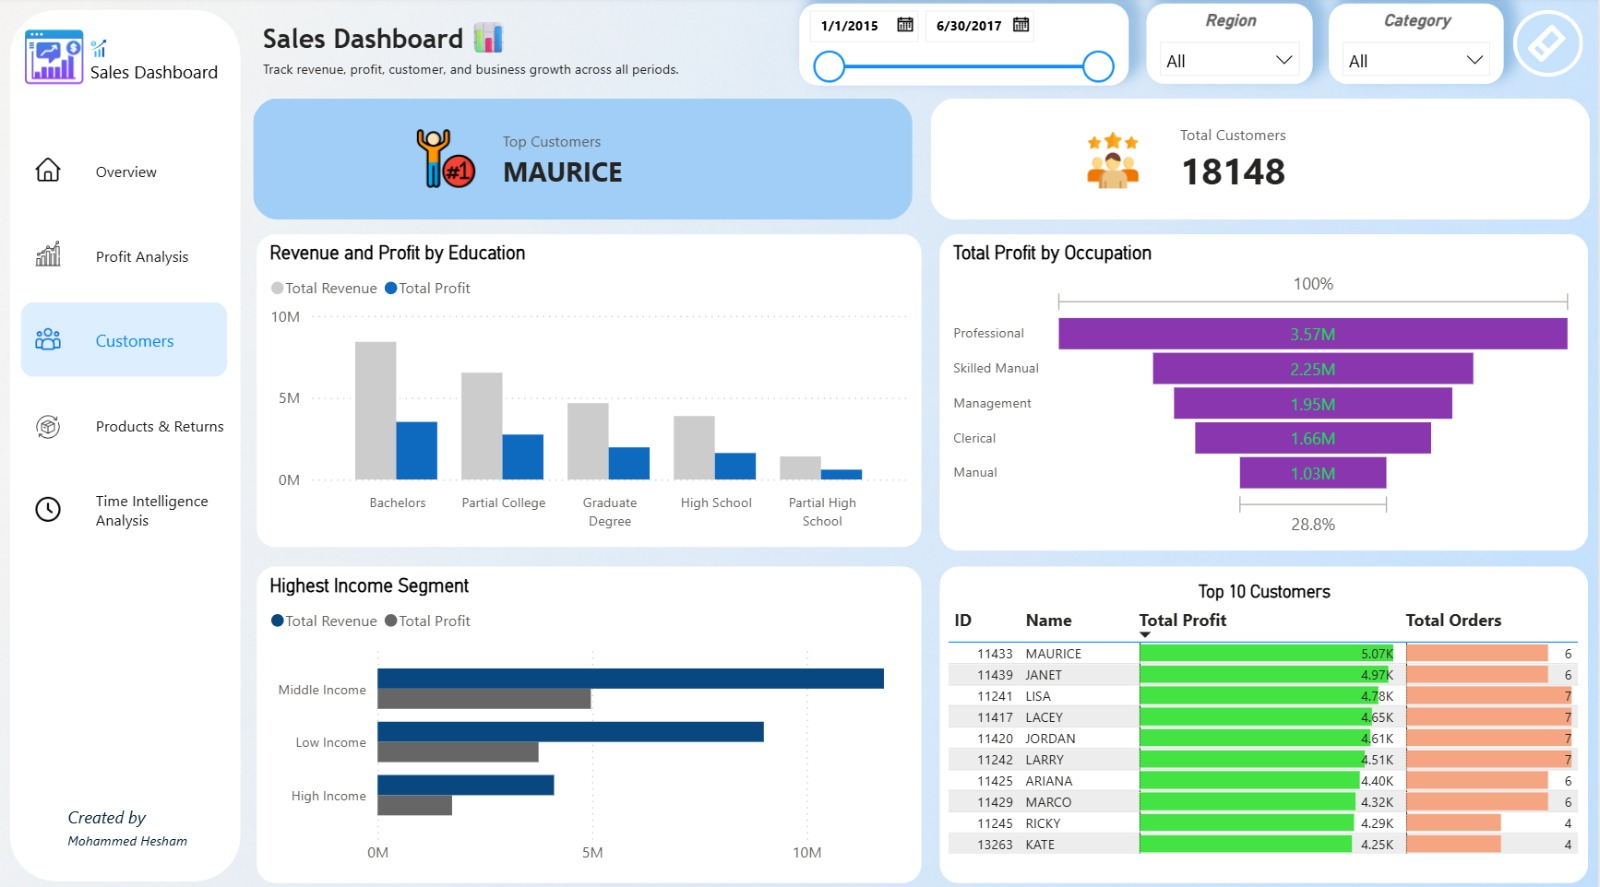

Layout of this report page (visuals, bound fields, positions):
{"tool":"powerbi","page":{"name":"Customers","canvas":[1280,720],"ordinal":2},"visuals":[{"type":"shape","box":[8,12.1,185.1,698.9],"z":0},{"type":"cardVisual","fields":{"Data":["Sales.Top Customers","A Measures.Total Customers"]},"box":[193.2,77.8,1088,107.3],"z":1000},{"type":"pageNavigator","box":[8,109.7,174.4,335.4],"z":2000},{"type":"textbox","box":[67.1,47,120.7,30.9],"z":3000},{"type":"image","box":[18.8,25.5,48.3,47],"z":4000},{"type":"image","box":[28.2,127.4,20.1,25.5],"z":5000},{"type":"image","box":[28.2,194.5,20.1,25.5],"z":6000},{"type":"image","box":[28.2,262.9,20.1,25.5],"z":7000},{"type":"image","box":[28.2,334,20.1,25],"z":8000},{"type":"image","box":[28.2,399.8,20.1,24.1],"z":9000},{"type":"textbox","box":[49.6,643.9,118.1,53.7],"z":10000},{"type":"textbox","box":[205.3,12.1,363.6,65.7],"z":11000},{"type":"image","box":[860.3,108.7,63.1,47],"z":12000},{"type":"slicer","fields":{"Values":["Calendar.Date"]},"box":[639.9,7,264.3,65.7],"z":13000},{"type":"slicer","title":"Region","fields":{"Values":["Territories.Country"]},"box":[918.7,6.5,133.3,64.7],"z":14000},{"type":"slicer","title":"Category","fields":{"Values":["Categories.CategoryName"]},"box":[1064.9,6.5,139.8,64.7],"z":15000},{"type":"image","box":[71.1,34.9,14.8,14.8],"z":16000},{"type":"card","fields":{"Values":["Count(Products.ProductKey)"]},"box":[978,279,97.9,77.8],"z":17000},{"type":"image","box":[326.3,107.3,63.1,47],"z":18000},{"type":"clusteredBarChart","title":"Highest Income Segment","fields":{"Category":["Customers.IncomeGroup"],"Y":["Sales.Total Revenue","Sales.Total Profit"]},"box":[205.3,457.5,532.6,253.5],"z":19000},{"type":"clusteredColumnChart","title":"Revenue and Profit by Education ","fields":{"Category":["Customers.EducationLevel"],"Y":["A Measures.Total Revenue","A Measures.Total Profit"]},"box":[205.3,191.8,532.6,250.9],"z":20000},{"type":"funnel","fields":{"Category":["Customers.Occupation"],"Y":["Sales.Total Profit"]},"box":[752.6,191.8,519.2,253.5],"z":21000},{"type":"tableEx","title":"Top 10 Customers","fields":{"Values":["Customers.CustomerKey","Customers.FirstName","Sum(Sales.Profit)","Sales.Total Orders"]},"box":[752.6,457.5,519.2,253.5],"z":22000},{"type":"actionButton","box":[1212.3,12.1,56.3,53.6],"z":23000}]}

Visuals, with their boxes on the page's 1280x720 design canvas (x1, y1, x2, y2). These are canvas units, not pixel positions in the 1600x887 screenshot, which may show the page scaled, cropped or inside an application window:
shape: bbox(8, 12, 193, 711)
cardVisual - Sales.Top Customers x A Measures.Total Customers: bbox(193, 78, 1281, 185)
pageNavigator: bbox(8, 110, 182, 445)
textbox: bbox(67, 47, 188, 78)
image: bbox(19, 26, 67, 72)
image: bbox(28, 127, 48, 153)
image: bbox(28, 194, 48, 220)
image: bbox(28, 263, 48, 288)
image: bbox(28, 334, 48, 359)
image: bbox(28, 400, 48, 424)
textbox: bbox(50, 644, 168, 698)
textbox: bbox(205, 12, 569, 78)
image: bbox(860, 109, 923, 156)
slicer - Calendar.Date: bbox(640, 7, 904, 73)
"Region" slicer: bbox(919, 6, 1052, 71)
"Category" slicer: bbox(1065, 6, 1205, 71)
image: bbox(71, 35, 86, 50)
card - Count(Products.ProductKey): bbox(978, 279, 1076, 357)
image: bbox(326, 107, 389, 154)
"Highest Income Segment" clusteredBarChart: bbox(205, 458, 738, 711)
"Revenue and Profit by Education " clusteredColumnChart: bbox(205, 192, 738, 443)
funnel - Customers.Occupation x Sales.Total Profit: bbox(753, 192, 1272, 445)
"Top 10 Customers" tableEx: bbox(753, 458, 1272, 711)
actionButton: bbox(1212, 12, 1269, 66)
